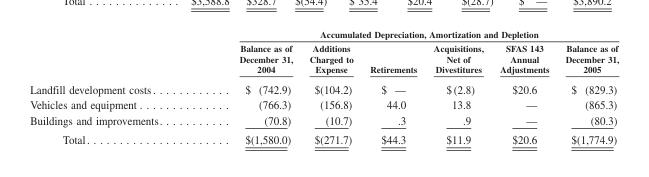table: (29, 28, 618, 145)
table column: (29, 28, 200, 145), (200, 28, 300, 145), (424, 28, 491, 145), (491, 28, 556, 145), (360, 28, 424, 145), (556, 28, 618, 145), (300, 28, 360, 145)
table column header: (29, 28, 618, 78)
table row: (29, 41, 618, 78), (29, 78, 618, 96), (29, 112, 618, 129), (29, 96, 618, 112), (29, 129, 618, 145), (29, 28, 618, 41)
table spanning cell: (200, 28, 618, 41)
